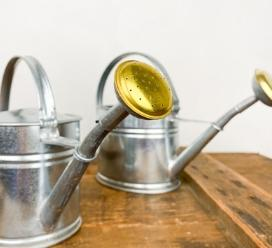ARROSOIR: (0, 19, 272, 248)
